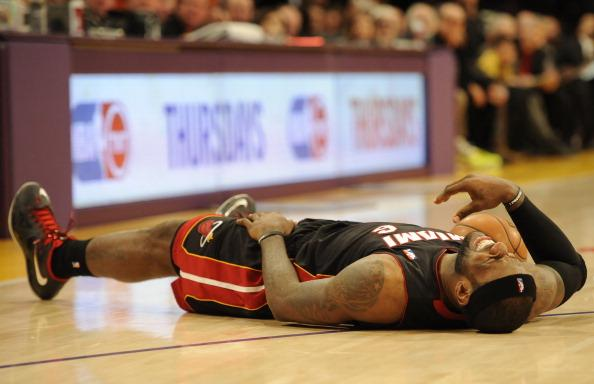down: (1, 153, 589, 338)
